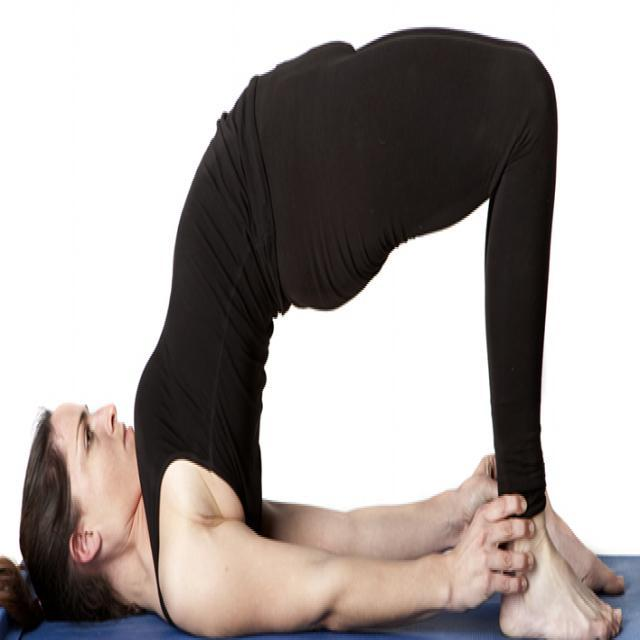yoga-pose bridge: (14, 25, 622, 640)
